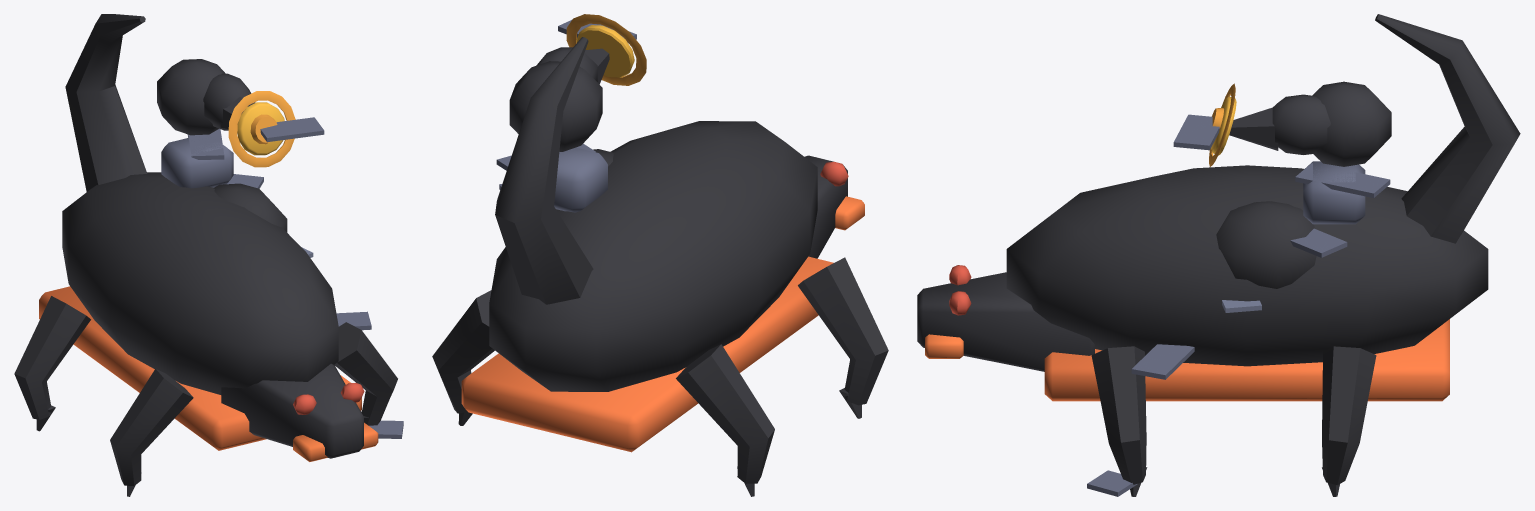
The model's file is thrasher.glb.
The picture shows the model from 3 angles, left to right: view 1: azimuth 30°, elevation 25°; view 2: azimuth 150°, elevation 25°; view 3: azimuth 270°, elevation 25°; orthographic projection. The views are drawn at different scales.
Parts seen in each view (by area): view 1: Thrasher; view 2: Thrasher; view 3: Thrasher.
Part boxes in pixels (<box>): Thrasher: <box>14,14,403,496</box>; Thrasher: <box>432,14,888,496</box>; Thrasher: <box>917,14,1520,496</box>.
Size of the model in its own units: 2.59 by 3.2 by 4.21.
1 material, 1 textured.
